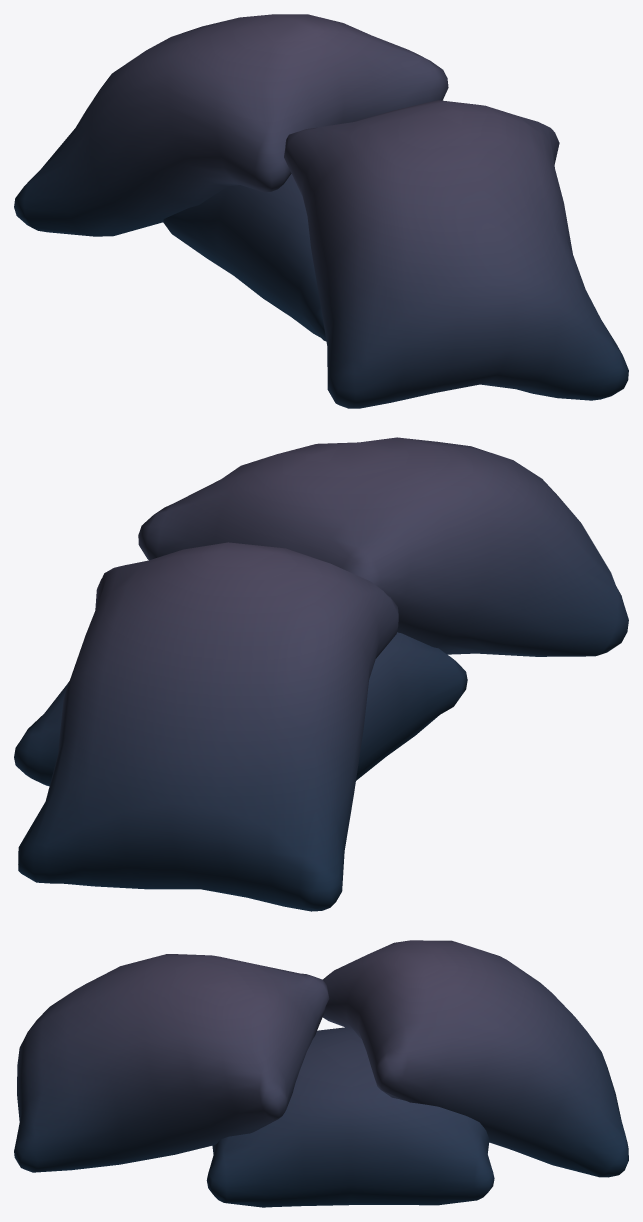
The model's file is Mesh_SandBags_02.gltf.
3 views of the same model, one above another, from view 1: azimuth 30°, elevation 25°; view 2: azimuth 150°, elevation 25°; view 3: azimuth 270°, elevation 25° (orthographic). The views are drawn at different scales.
Visible parts, largest first — view 1: SandBags_02:PIV; view 2: SandBags_02:PIV; view 3: SandBags_02:PIV.
Boxes of the visible parts, x1,y1,x2,y2 form: SandBags_02:PIV: (14,14,628,408); SandBags_02:PIV: (14,437,628,911); SandBags_02:PIV: (14,940,628,1207).
Bounding box in the file's own units: 1.12 × 0.7663 × 2.04.
